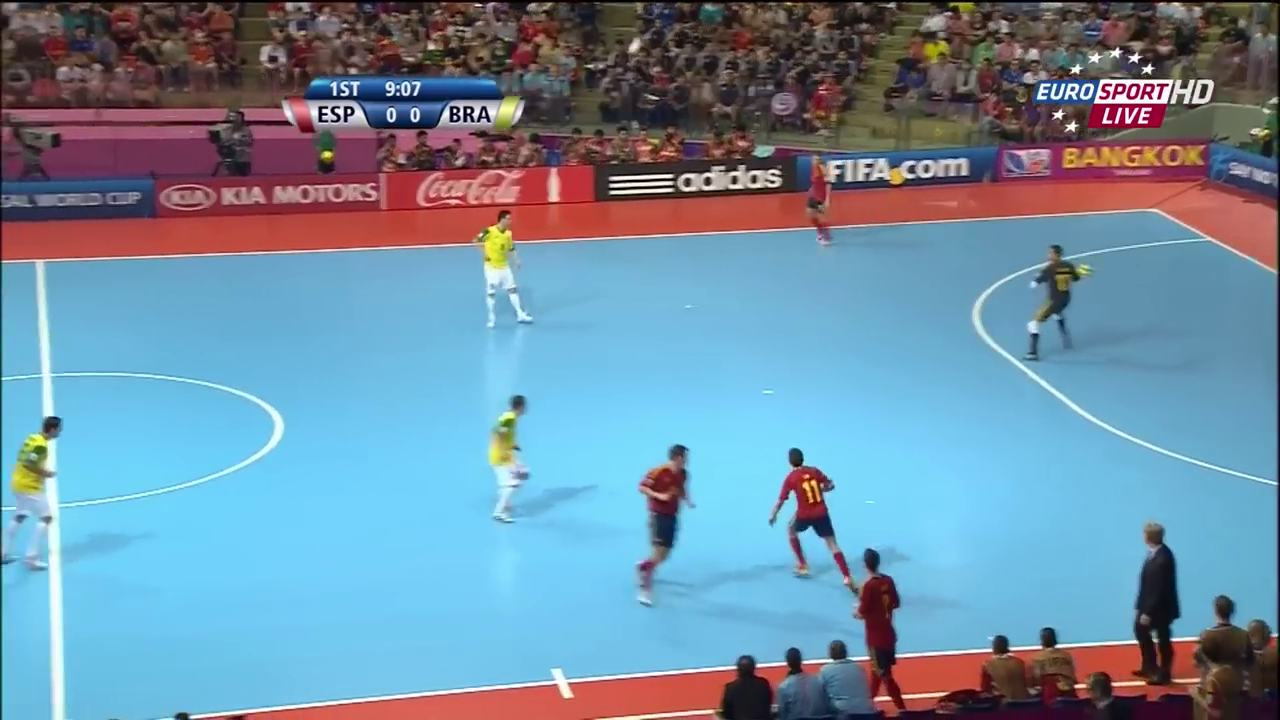ball: (1077, 259, 1093, 284)
person: (761, 438, 855, 590), (622, 442, 699, 606), (2, 413, 64, 569), (1020, 241, 1088, 370), (462, 204, 529, 328), (478, 384, 530, 535), (798, 155, 841, 248)
